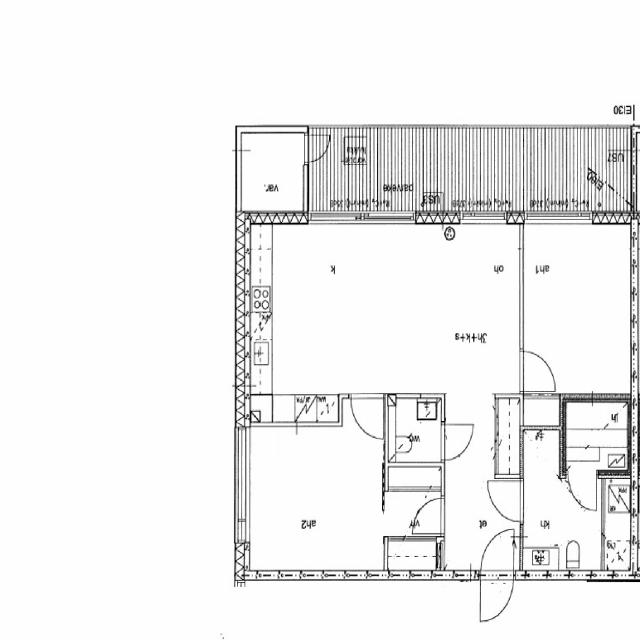door: (480, 528, 513, 580), (480, 570, 513, 622), (486, 480, 524, 521), (520, 351, 556, 392), (351, 394, 383, 439), (568, 470, 596, 514), (412, 498, 444, 534), (441, 424, 473, 460), (304, 135, 332, 163)
